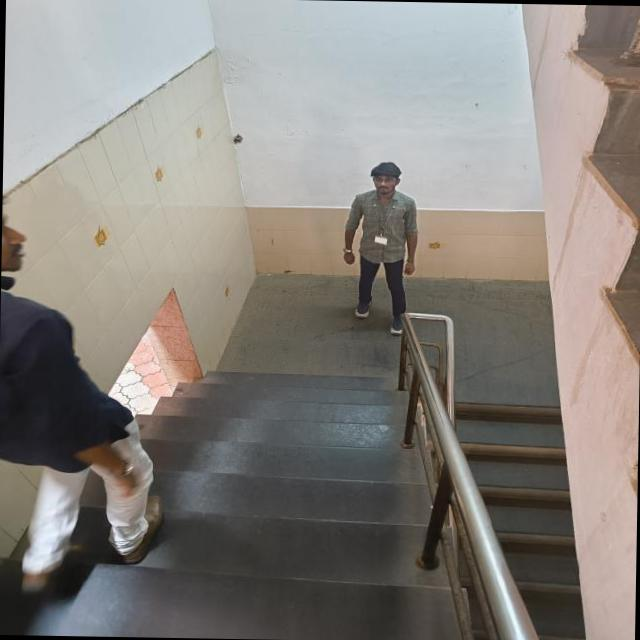id_card: (369, 192, 393, 246)
